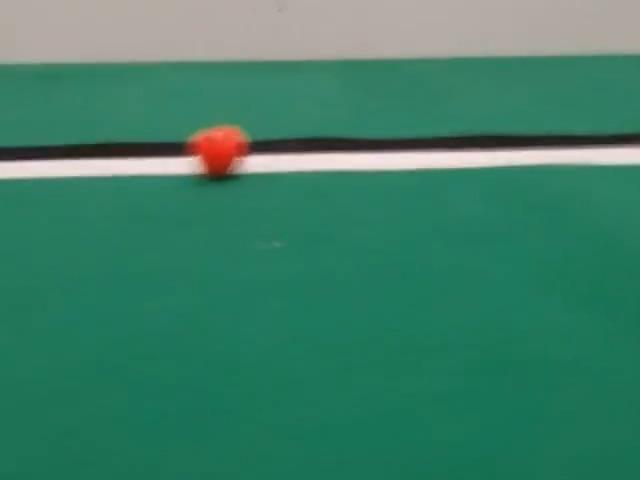Ball: (187, 125, 248, 177)
